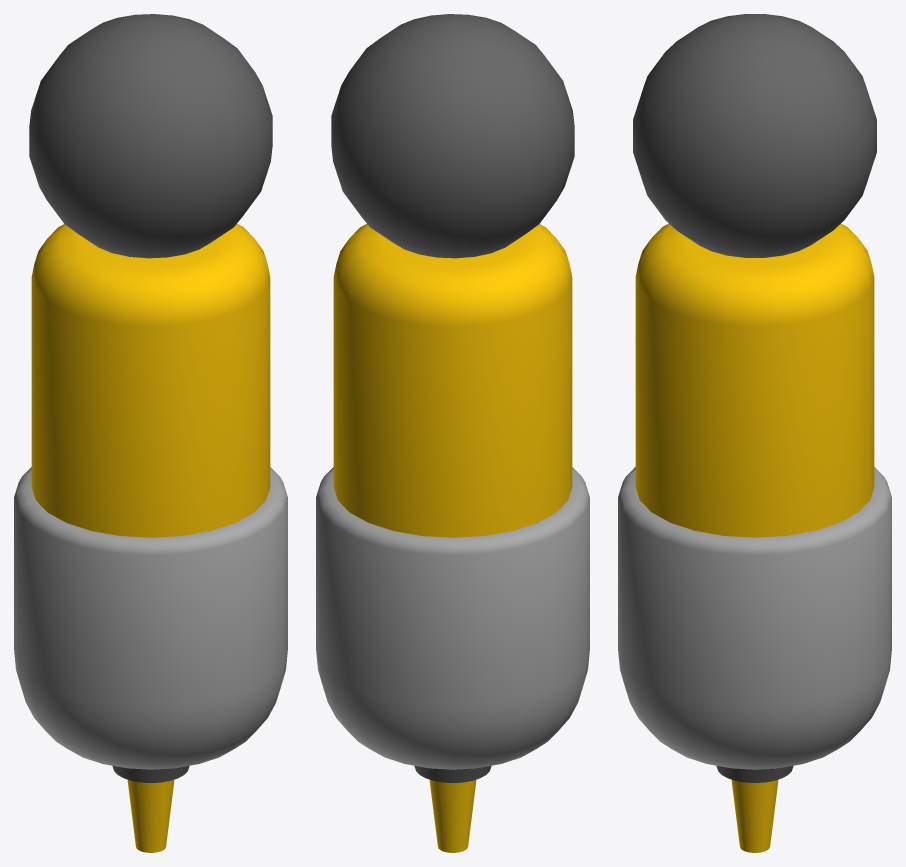
Rendered from DecorMachine_Pastry_MachineIcing.FBX.
3 renders of one model, left to right at view 1: azimuth 30°, elevation 25°; view 2: azimuth 150°, elevation 25°; view 3: azimuth 270°, elevation 25°, orthographic.
Visible parts, largest first — view 1: DecorMachine_Pastry_MachineIcing; view 2: DecorMachine_Pastry_MachineIcing; view 3: DecorMachine_Pastry_MachineIcing.
Boxes of the visible parts, <box> form: DecorMachine_Pastry_MachineIcing: <box>14,14,287,852</box>; DecorMachine_Pastry_MachineIcing: <box>316,14,589,852</box>; DecorMachine_Pastry_MachineIcing: <box>618,14,891,852</box>.
Size of the model in its own units: 1978 by 6550 by 1978.
